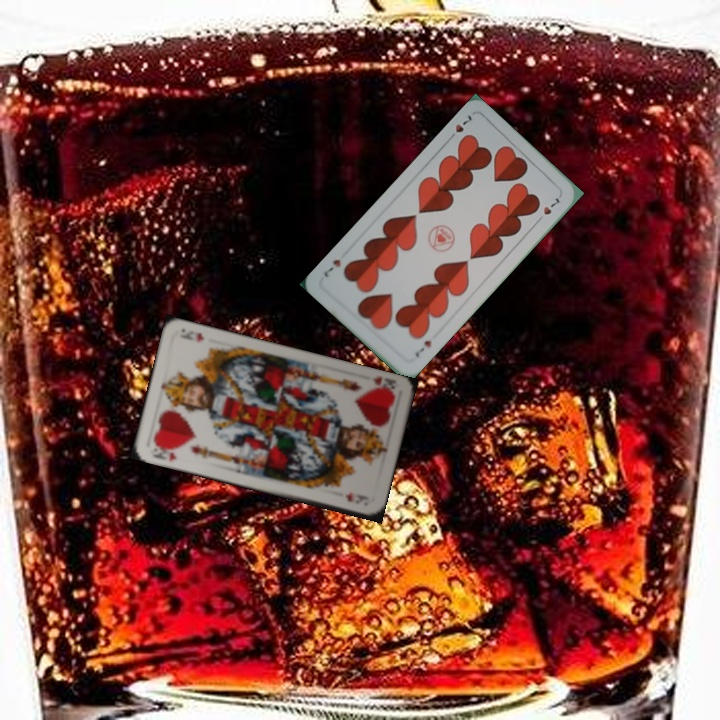H7: (444, 111, 474, 144), (411, 336, 434, 360)
HK: (366, 373, 399, 397), (148, 440, 179, 464)
